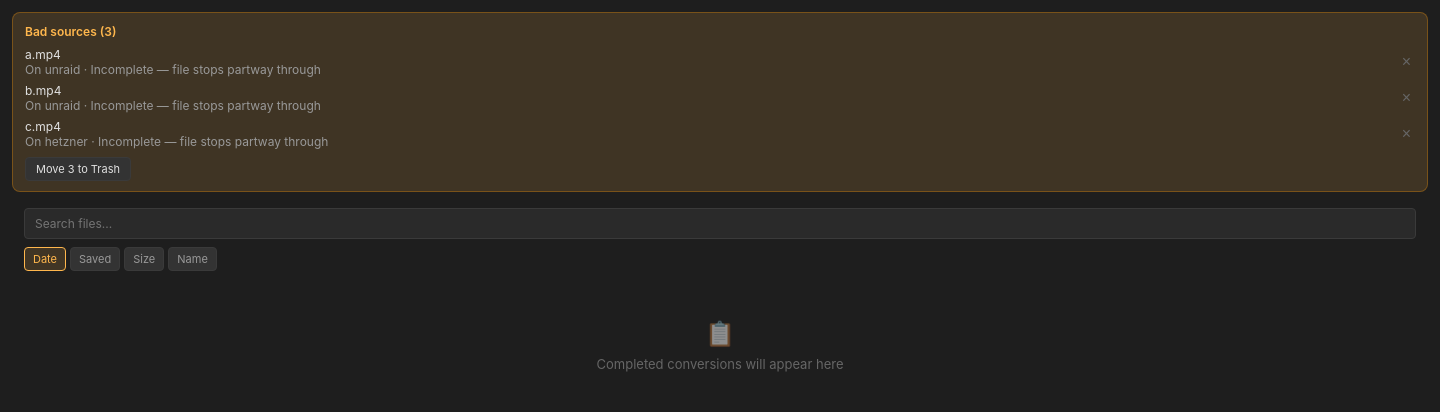
Scenario: HistoryPage › bad-source review list › shows a remote bad source's host and says where to delete it by hand
The width and height of the screenshot is (1440, 412).
Expected: the text "Bad sources (3)" is shown, x1=25 y1=24 x2=116 y2=39
Expected: the text "On unraid · Incomplete — file stops partway through" is shown 2 times, x1=25 y1=62 x2=321 y2=77; x1=25 y1=98 x2=321 y2=113
Click the button "Move 3 to Trash" at (78,169), box x1=25 y1=157 x2=131 y2=181
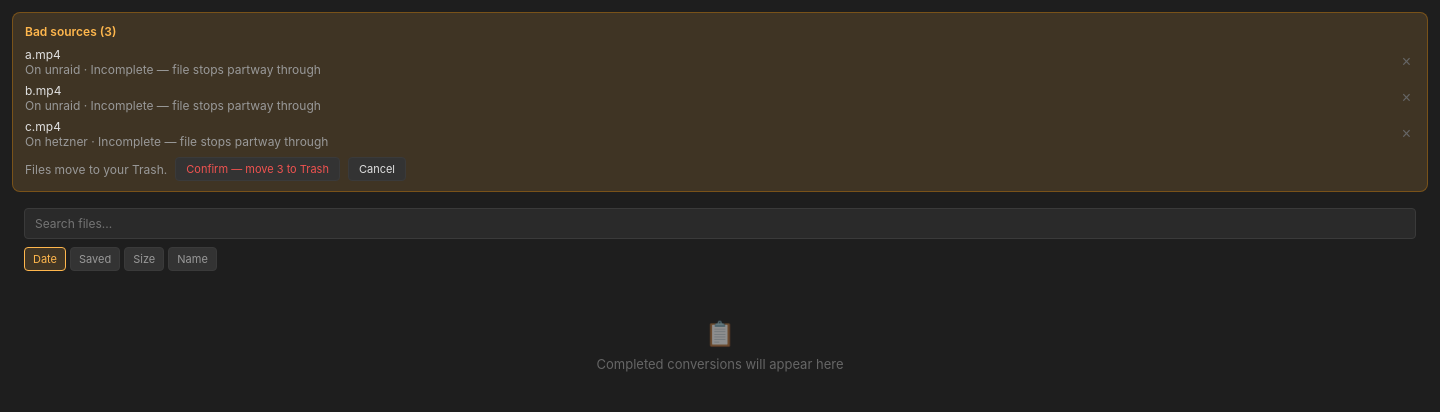
Click the button "Confirm — move 3 to Trash" at (258,169), box x1=175 y1=157 x2=340 y2=181
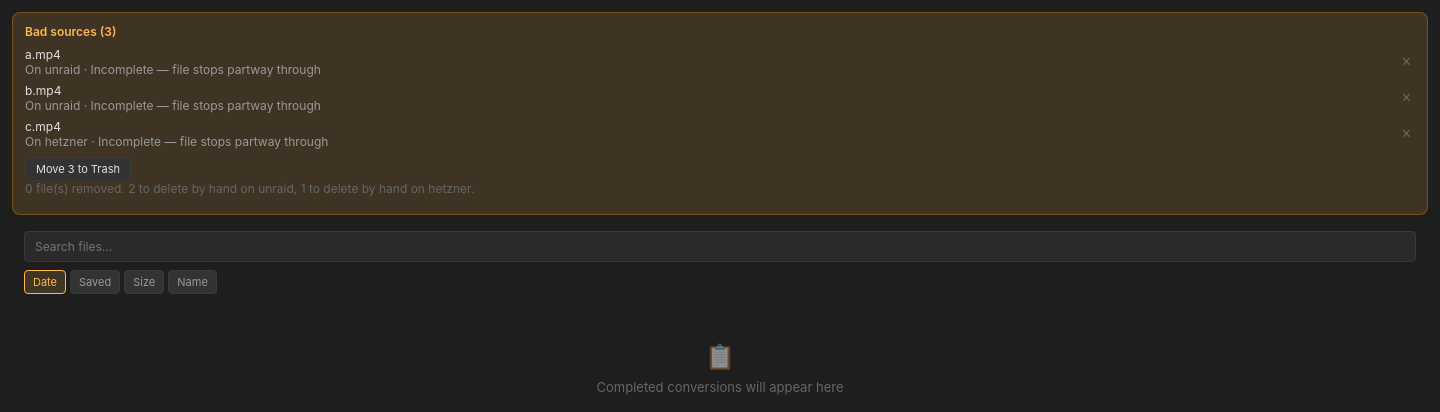
Expected: the text "0 file(s) removed. 2 to delete by hand on unraid, 1 to delete by hand on hetzner." is shown, x1=25 y1=181 x2=474 y2=196
